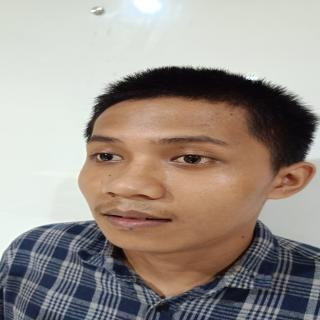Takut: (71, 90, 270, 256)
